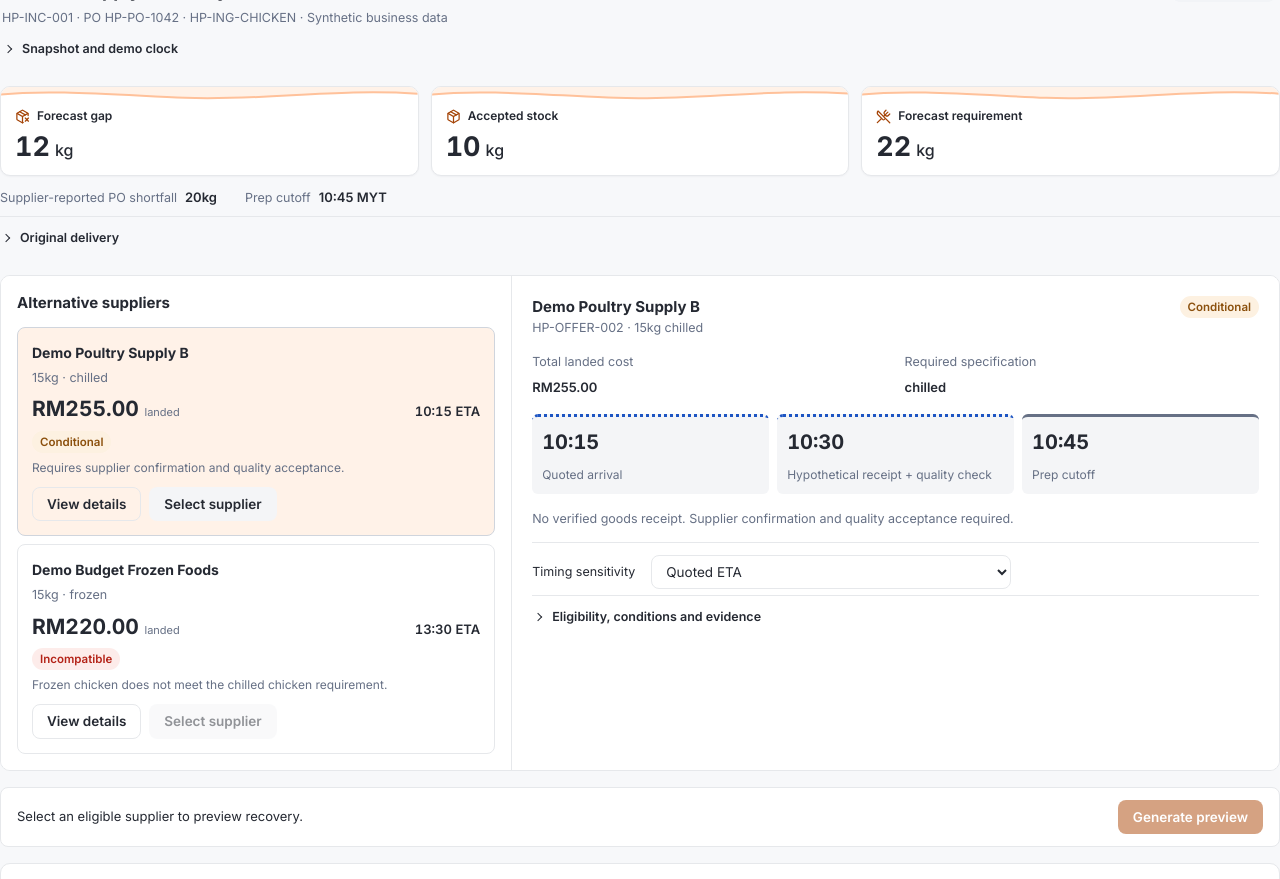
surfaces scenario calculation errors without success projections
This screenshot has width=1280, height=879.
Click the button with aria-label "Select HP-OFFER-002" at (213, 504), box [149,487,277,521]
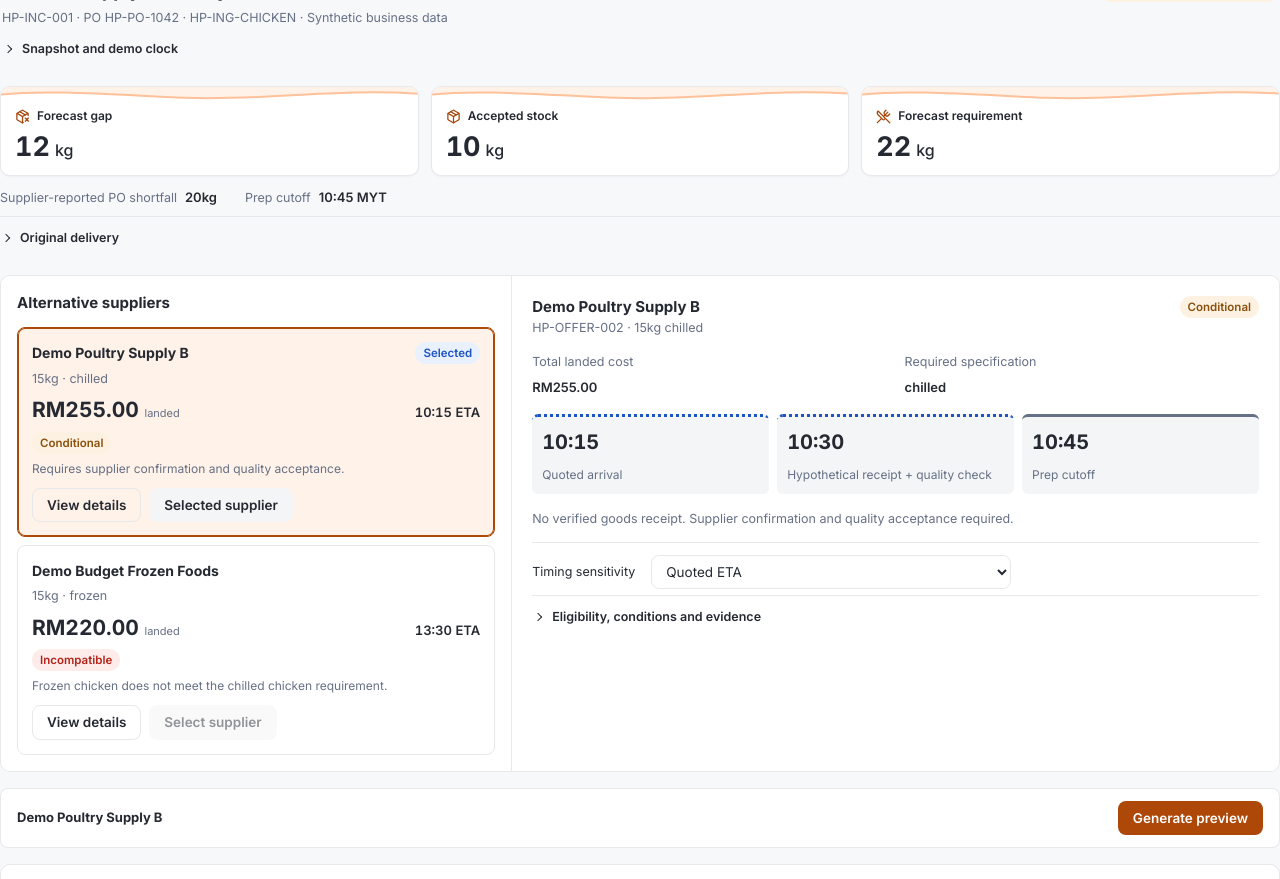
Click the button "Generate preview" at (1190, 818), box [1118,801,1263,835]
(page scrolled)
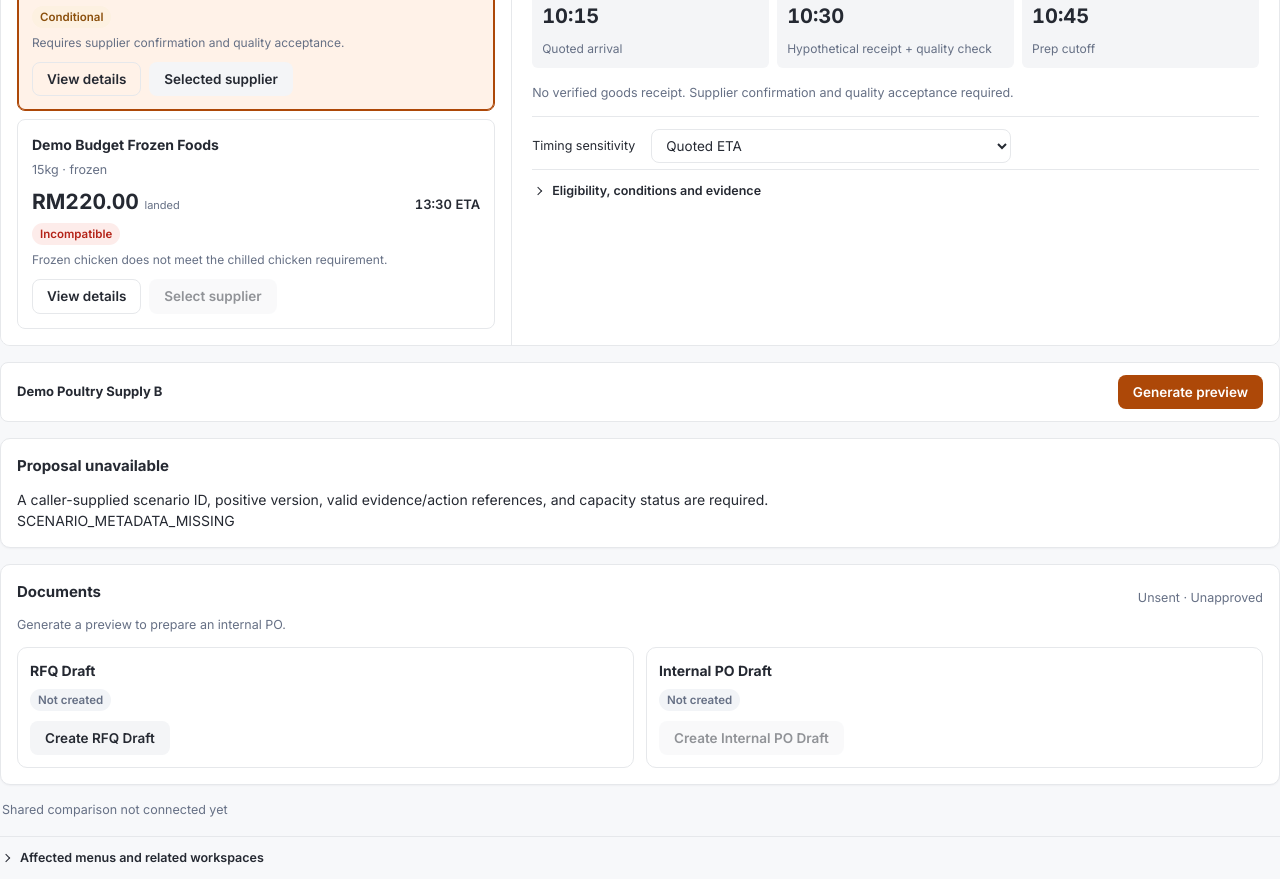
expect the message that starts with "Proposal unavailable" shows "SCENARIO_METADATA_MISSING": met, box [17,512,235,529]
